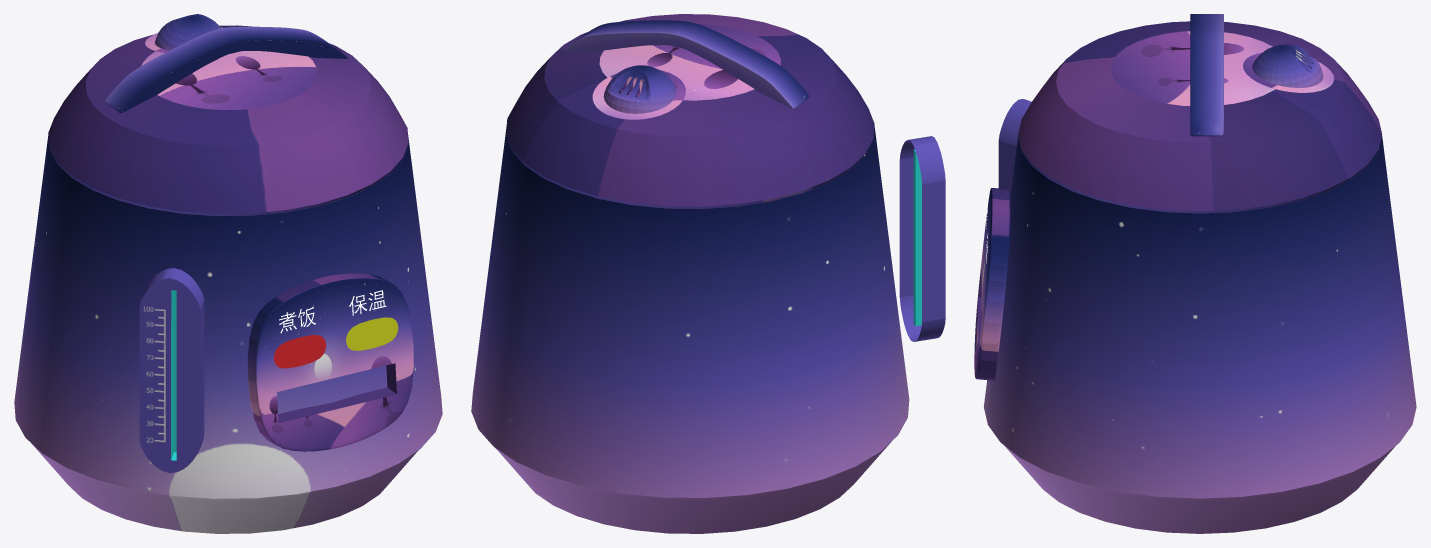
The model's file is smart_cooker22.glb.
3 renders of one model, left to right at view 1: azimuth 30°, elevation 25°; view 2: azimuth 150°, elevation 25°; view 3: azimuth 270°, elevation 25°, orthographic. The views are drawn at different scales.
Visible parts, largest first — view 1: 锅体, 锅盖, 控制面板, 温度计, 锅柄, 排烟桶, Right, left; view 2: 锅体, 锅盖, 温度计, 锅柄, 排烟桶; view 3: 锅体, 锅盖, 控制面板, 锅柄, 排烟桶, 温度计.
Part boxes in pixels (bbox=[...]): 锅体: bbox=[14, 135, 442, 533]; 锅盖: bbox=[48, 25, 408, 213]; 控制面板: bbox=[247, 273, 413, 451]; 温度计: bbox=[139, 268, 204, 473]; 锅柄: bbox=[105, 26, 347, 112]; 排烟桶: bbox=[145, 14, 222, 52]; Right: bbox=[346, 317, 398, 350]; left: bbox=[274, 335, 326, 368]; 锅体: bbox=[471, 126, 909, 533]; 锅盖: bbox=[506, 14, 874, 206]; 温度计: bbox=[899, 136, 945, 341]; 锅柄: bbox=[561, 20, 809, 108]; 排烟桶: bbox=[592, 65, 685, 119]; 锅体: bbox=[984, 136, 1416, 533]; 锅盖: bbox=[1018, 21, 1382, 211]; 控制面板: bbox=[974, 188, 1010, 380]; 锅柄: bbox=[1190, 14, 1223, 136]; 排烟桶: bbox=[1243, 44, 1334, 92]; 温度计: bbox=[998, 99, 1031, 193].
Size of the model in its own units: 1.36 by 1.49 by 1.39.
Materials: 6 (3 with a texture image).
